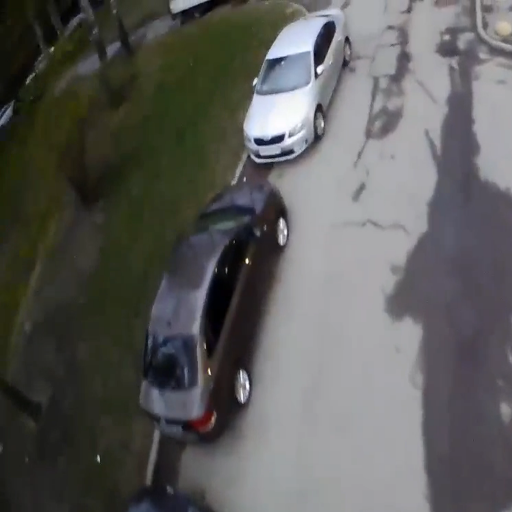Car: (136, 183, 288, 444), (240, 10, 353, 167)
